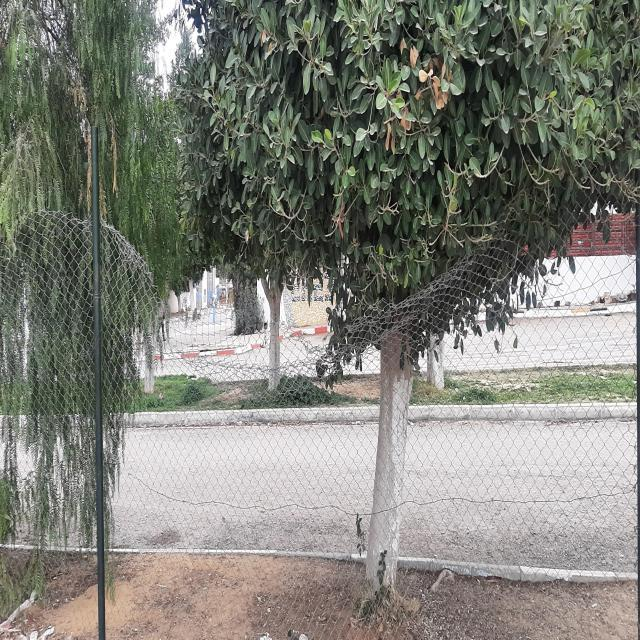fence line: (134, 211, 486, 321)
